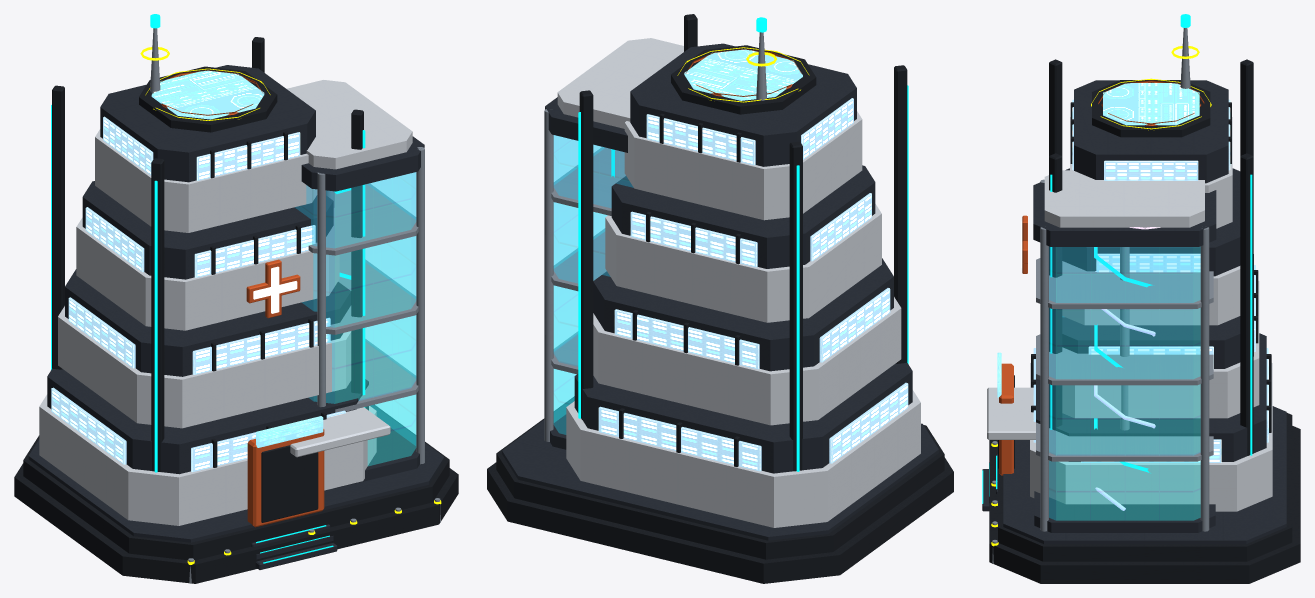
File: bldg_04_r1_04.glb
The picture shows the model from 3 angles, left to right: view 1: azimuth 30°, elevation 25°; view 2: azimuth 150°, elevation 25°; view 3: azimuth 270°, elevation 25°; orthographic projection. The views are drawn at different scales.
Visible parts, largest first — view 1: Bldg04_C04_aero_white, Bldg04_C04_carbon_slate, Bldg04_C04_gunmetal, Bldg04_C04_glass_cyan, Bldg04_C04_window_lit, Bldg04_C04_steel_machined, Bldg04_C04_marquee, Bldg04_C04_accent_orange, Bldg04_C04_led_cyan, Bldg04_C04_led_ice, Bldg04_C04_led_amber; view 2: Bldg04_C04_aero_white, Bldg04_C04_carbon_slate, Bldg04_C04_gunmetal, Bldg04_C04_window_lit, Bldg04_C04_glass_cyan, Bldg04_C04_steel_machined, Bldg04_C04_marquee, Bldg04_C04_led_cyan; view 3: Bldg04_C04_glass_cyan, Bldg04_C04_carbon_slate, Bldg04_C04_aero_white, Bldg04_C04_gunmetal, Bldg04_C04_steel_machined, Bldg04_C04_window_lit, Bldg04_C04_marquee, Bldg04_C04_led_cyan, Bldg04_C04_accent_orange, Bldg04_C04_led_uv, Bldg04_C04_led_amber.
Part boxes in pixels (<box>): Bldg04_C04_aero_white: <box>39,80,412,525</box>; Bldg04_C04_carbon_slate: <box>28,65,444,569</box>; Bldg04_C04_gunmetal: <box>14,37,458,583</box>; Bldg04_C04_glass_cyan: <box>295,172,416,465</box>; Bldg04_C04_window_lit: <box>51,116,345,472</box>; Bldg04_C04_steel_machined: <box>150,28,440,583</box>; Bldg04_C04_marquee: <box>151,70,323,447</box>; Bldg04_C04_accent_orange: <box>153,70,324,527</box>; Bldg04_C04_led_cyan: <box>51,14,365,563</box>; Bldg04_C04_led_ice: <box>253,266,297,313</box>; Bldg04_C04_led_amber: <box>140,47,441,564</box>; Bldg04_C04_aero_white: <box>557,38,920,527</box>; Bldg04_C04_carbon_slate: <box>502,43,938,540</box>; Bldg04_C04_gunmetal: <box>487,14,953,583</box>; Bldg04_C04_window_lit: <box>598,98,908,471</box>; Bldg04_C04_glass_cyan: <box>553,135,633,434</box>; Bldg04_C04_steel_machined: <box>544,32,766,441</box>; Bldg04_C04_marquee: <box>684,49,802,100</box>; Bldg04_C04_led_cyan: <box>578,17,908,471</box>; Bldg04_C04_glass_cyan: <box>1049,246,1200,520</box>; Bldg04_C04_carbon_slate: <box>982,80,1286,544</box>; Bldg04_C04_aero_white: <box>987,117,1272,511</box>; Bldg04_C04_gunmetal: <box>989,59,1300,583</box>; Bldg04_C04_steel_machined: <box>992,28,1213,563</box>; Bldg04_C04_window_lit: <box>1033,99,1268,462</box>; Bldg04_C04_marquee: <box>997,83,1199,397</box>; Bldg04_C04_led_cyan: <box>982,14,1252,503</box>; Bldg04_C04_accent_orange: <box>999,80,1204,475</box>; Bldg04_C04_led_uv: <box>1094,227,1160,510</box>; Bldg04_C04_led_amber: <box>991,46,1211,546</box>.
Bounding box in the file's own units: 12 × 16.32 × 10.23.
Materials: 12 (12 with a texture image).
